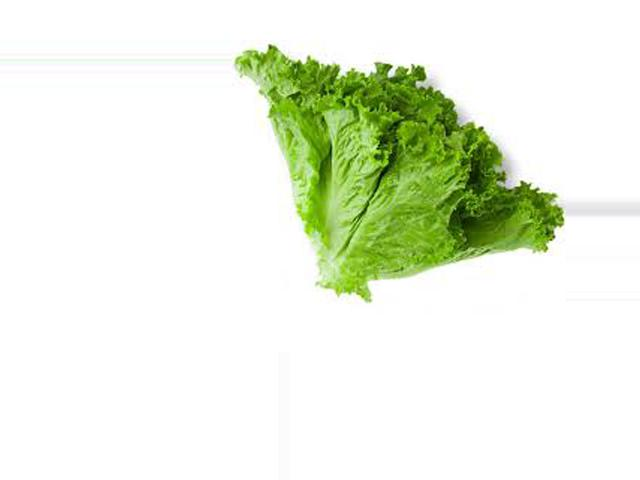lettuce: (231, 37, 566, 292)
